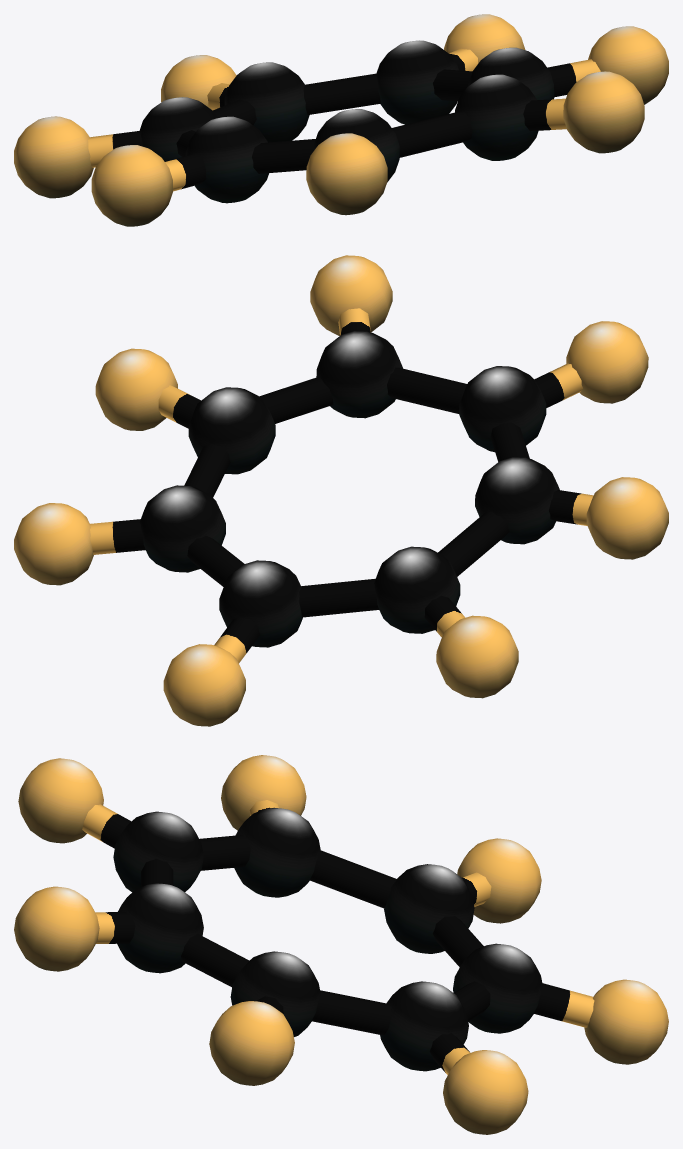
File: TropyliumCation.dae
3 views of the same model, one above another, from view 1: azimuth 30°, elevation 25°; view 2: azimuth 150°, elevation 25°; view 3: azimuth 270°, elevation 25° (orthographic). The views are drawn at different scales.
Parts seen in each view (by area): view 1: polySurface90; view 2: polySurface90; view 3: polySurface90.
Part boxes in pixels (<box>): polySurface90: <box>14,14,668,226</box>; polySurface90: <box>14,255,668,726</box>; polySurface90: <box>14,755,668,1134</box>.
Bounding box in the file's own units: 4.6 × 1.78 × 4.46.
1 material, 1 textured.
